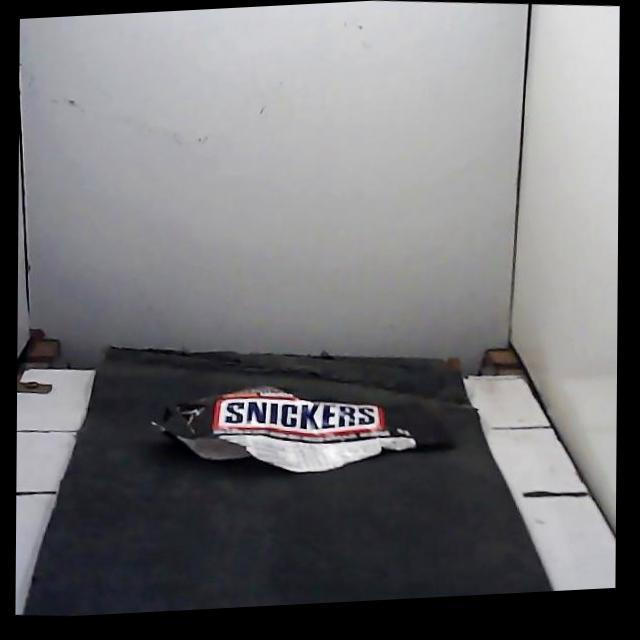plastico: (166, 387, 430, 471)
